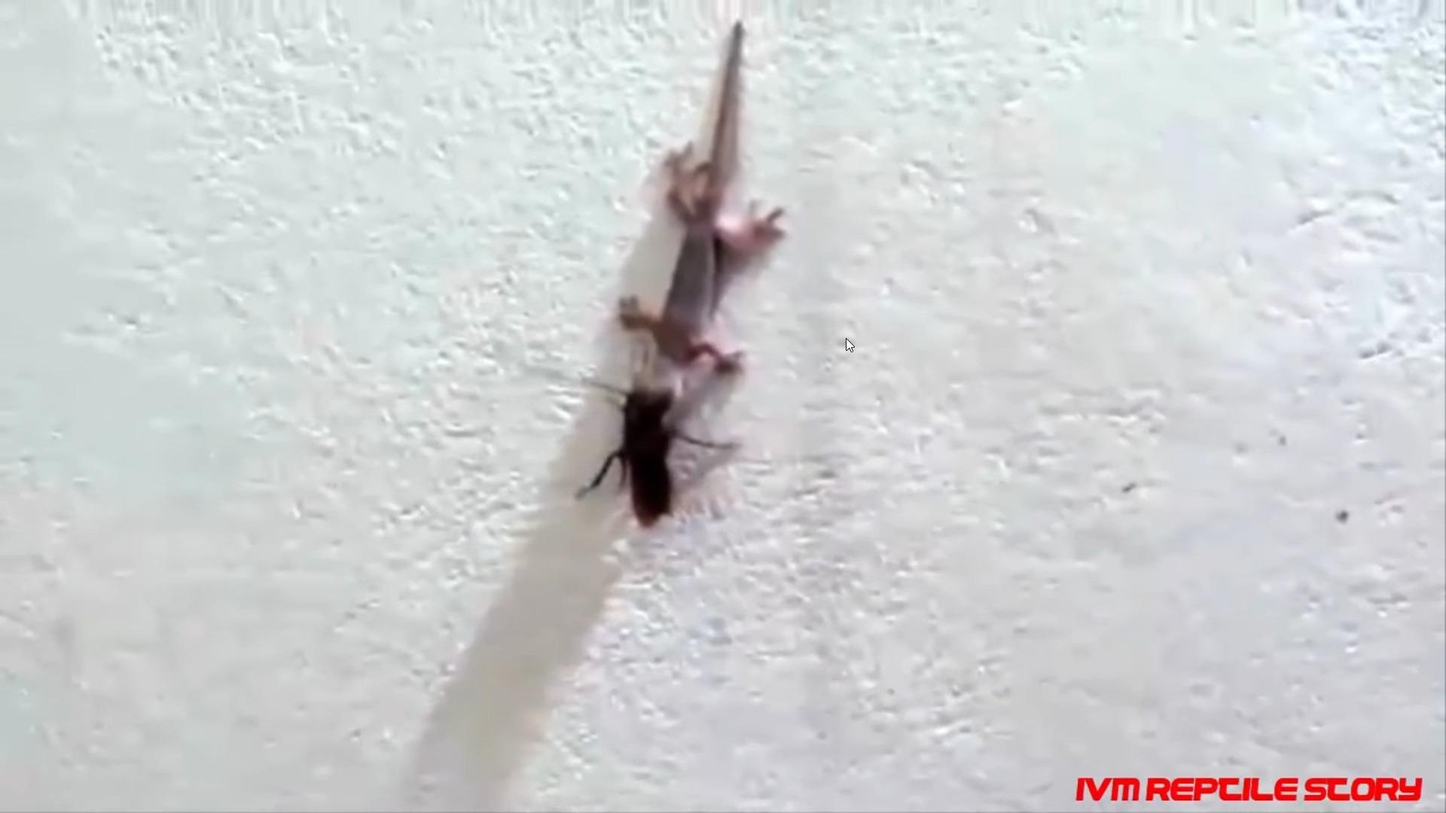cockroach: (601, 397, 708, 541)
lizard: (631, 46, 774, 407)
